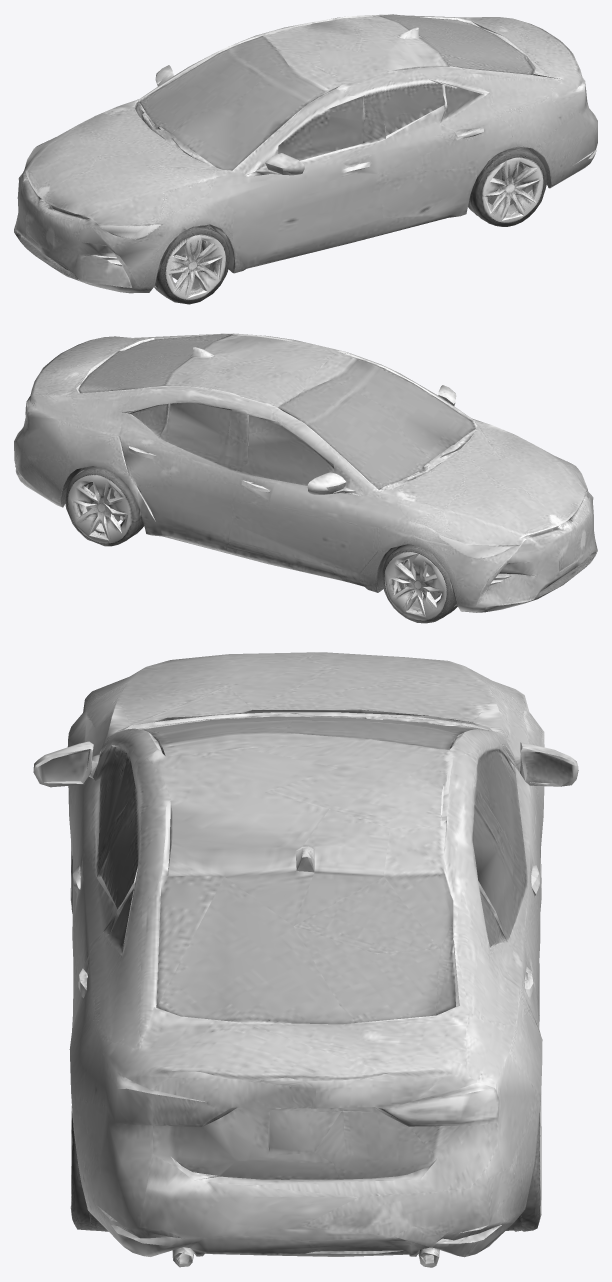
Rendered from car_sedan.glb.
3 views of the same model, one above another, from view 1: azimuth 30°, elevation 25°; view 2: azimuth 150°, elevation 25°; view 3: azimuth 270°, elevation 25° (orthographic). The views are drawn at different scales.
Size of the model in its own units: 1.9 by 0.5722 by 0.8485.
1 material, 1 textured.
